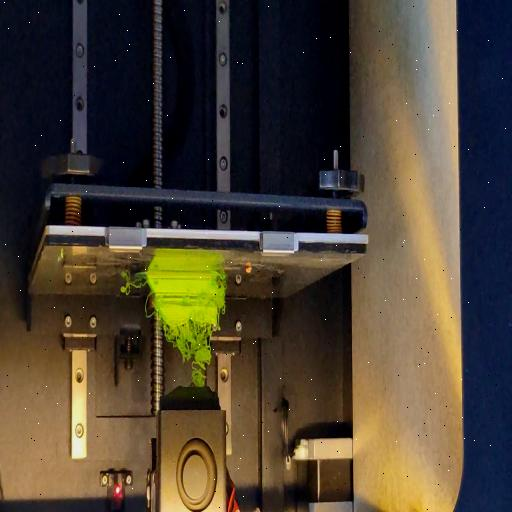spaghetti: (164, 322, 212, 394), (119, 278, 143, 300), (142, 292, 154, 320), (216, 266, 226, 280)
